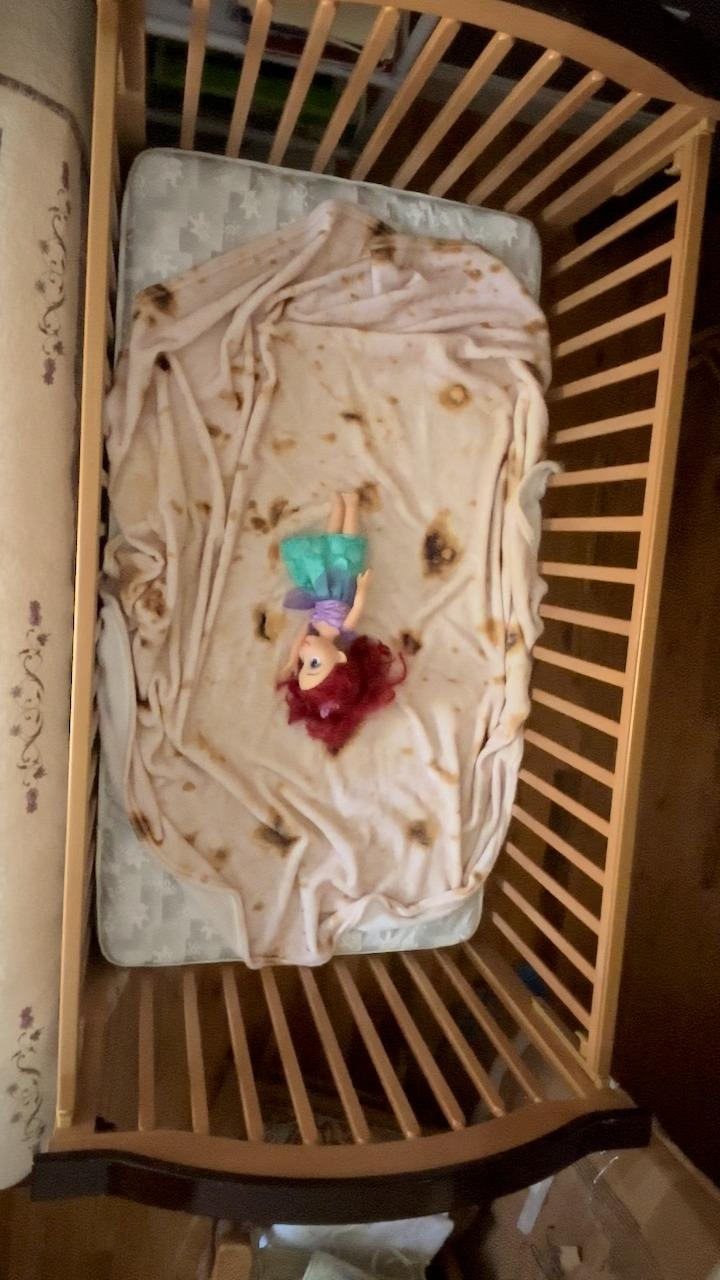baby: (275, 484, 396, 750)
